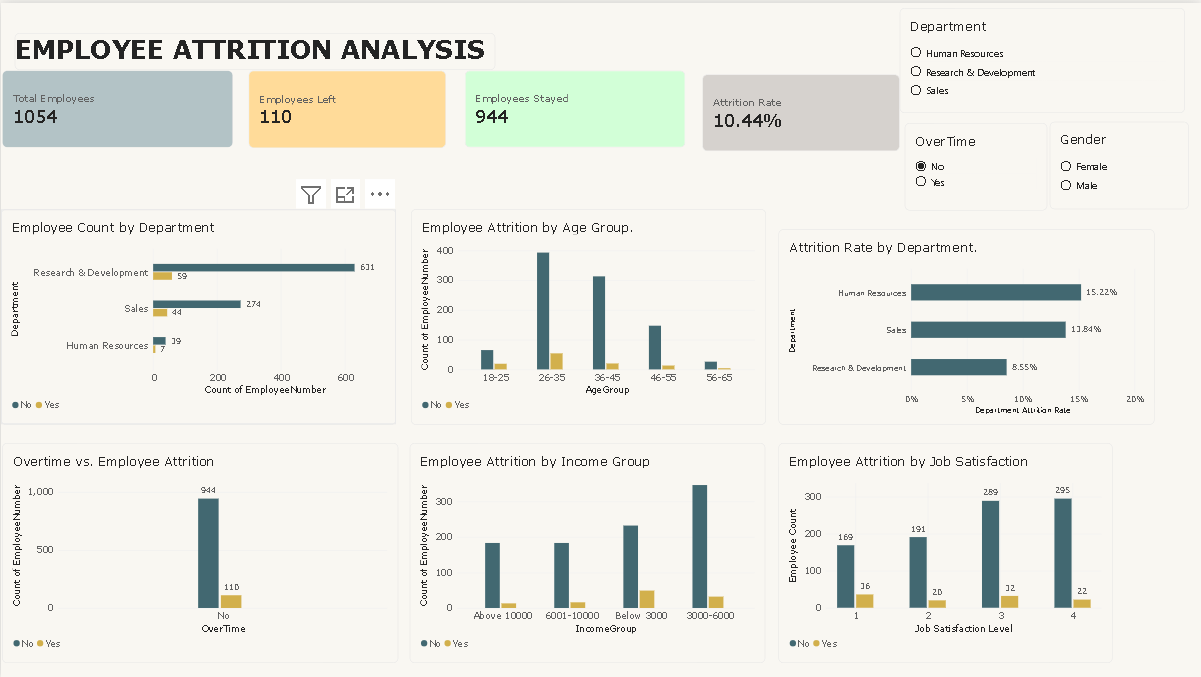

What the dashboard file says about the page in this screenshot:
{"tool":"powerbi","page":{"name":"Page 1","canvas":[1920,1080],"ordinal":0},"visuals":[{"type":"cardVisual","fields":{"Data":["Employee_Attrition_Cleaned.Total Employees"]},"box":[2.4,107.1,369.6,123.2],"z":0},{"type":"cardVisual","fields":{"Data":["Employee_Attrition_Cleaned.Employees Left"]},"box":[395.2,107.1,316.1,125],"z":1000},{"type":"cardVisual","fields":{"Data":["Employee_Attrition_Cleaned.Employees Stayed"]},"box":[742.9,107.1,353.6,123.2],"z":2000},{"type":"cardVisual","fields":{"Data":["Employee_Attrition_Cleaned.Attrition Rate"]},"box":[1121.4,114.3,316.1,123.2],"z":3000},{"type":"clusteredBarChart","title":"Employee Count by Department","fields":{"Category":["Employee_Attrition_Cleaned.Department"],"Series":["Employee_Attrition_Cleaned.Attrition"],"Y":["CountNonNull(Employee_Attrition_Cleaned.EmployeeNumber)"]},"box":[0,330,632.1,344.6],"z":4000},{"type":"clusteredColumnChart","title":"Overtime vs. Employee Attrition","fields":{"Category":["Employee_Attrition_Cleaned.OverTime"],"Series":["Employee_Attrition_Cleaned.Attrition"],"Y":["CountNonNull(Employee_Attrition_Cleaned.EmployeeNumber)"]},"box":[2,704,633.3,352.4],"z":5000},{"type":"clusteredColumnChart","title":"Employee Attrition by Job Satisfaction","fields":{"Category":["Employee_Attrition_Cleaned.JobSatisfaction"],"Series":["Employee_Attrition_Cleaned.Attrition"],"Y":["CountNonNull(Employee_Attrition_Cleaned.EmployeeNumber)"]},"box":[1244,704,534,352],"z":6000},{"type":"clusteredColumnChart","title":"\tEmployee Attrition by Income Group","fields":{"Category":["Employee_Attrition_Cleaned.IncomeGroup"],"Series":["Employee_Attrition_Cleaned.Attrition"],"Y":["CountNonNull(Employee_Attrition_Cleaned.EmployeeNumber)"]},"box":[654,704,569,352.4],"z":7000},{"type":"clusteredColumnChart","title":"Employee Attrition by Age Group.","fields":{"Category":["Employee_Attrition_Cleaned.AgeGroup"],"Series":["Employee_Attrition_Cleaned.Attrition"],"Y":["CountNonNull(Employee_Attrition_Cleaned.EmployeeNumber)"]},"box":[656,330,567.9,344.6],"z":8000},{"type":"listSlicer","fields":{"Values":["Employee_Attrition_Cleaned.Department"]},"box":[1438,8,456,168],"z":9000},{"type":"listSlicer","fields":{"Values":["Employee_Attrition_Cleaned.Gender"]},"box":[1678,190,222,140],"z":10000},{"type":"listSlicer","fields":{"Values":["Employee_Attrition_Cleaned.OverTime"]},"box":[1446,192,228,140],"z":11000},{"type":"textbox","title":"EMPLOYEE ATTRITION ANALYSIS","box":[21.4,47.6,769,59.5],"z":12000},{"type":"clusteredBarChart","title":"Attrition Rate by Department.","fields":{"Category":["Employee_Attrition_Cleaned.Department"],"Y":["Employee_Attrition_Cleaned.Department Attrition Rate"]},"box":[1244,362,601.8,312.7],"z":13000}]}

Visuals, with their boxes in screenshot pixels (x1, y1, x2, y2), scaled from the page's 1920x1080 canvas onto the 1201x677 screenshot:
cardVisual - Employee_Attrition_Cleaned.Total Employees: 2, 67, 233, 144
cardVisual - Employee_Attrition_Cleaned.Employees Left: 247, 67, 445, 145
cardVisual - Employee_Attrition_Cleaned.Employees Stayed: 465, 67, 686, 144
cardVisual - Employee_Attrition_Cleaned.Attrition Rate: 701, 72, 899, 149
"Employee Count by Department" clusteredBarChart: 0, 207, 395, 423
"Overtime vs. Employee Attrition" clusteredColumnChart: 1, 441, 397, 662
"Employee Attrition by Job Satisfaction" clusteredColumnChart: 778, 441, 1112, 662
"	Employee Attrition by Income Group" clusteredColumnChart: 409, 441, 765, 662
"Employee Attrition by Age Group." clusteredColumnChart: 410, 207, 766, 423
listSlicer - Employee_Attrition_Cleaned.Department: 899, 5, 1185, 110
listSlicer - Employee_Attrition_Cleaned.Gender: 1050, 119, 1188, 207
listSlicer - Employee_Attrition_Cleaned.OverTime: 905, 120, 1047, 208
"EMPLOYEE ATTRITION ANALYSIS" textbox: 13, 30, 494, 67
"Attrition Rate by Department." clusteredBarChart: 778, 227, 1155, 423
